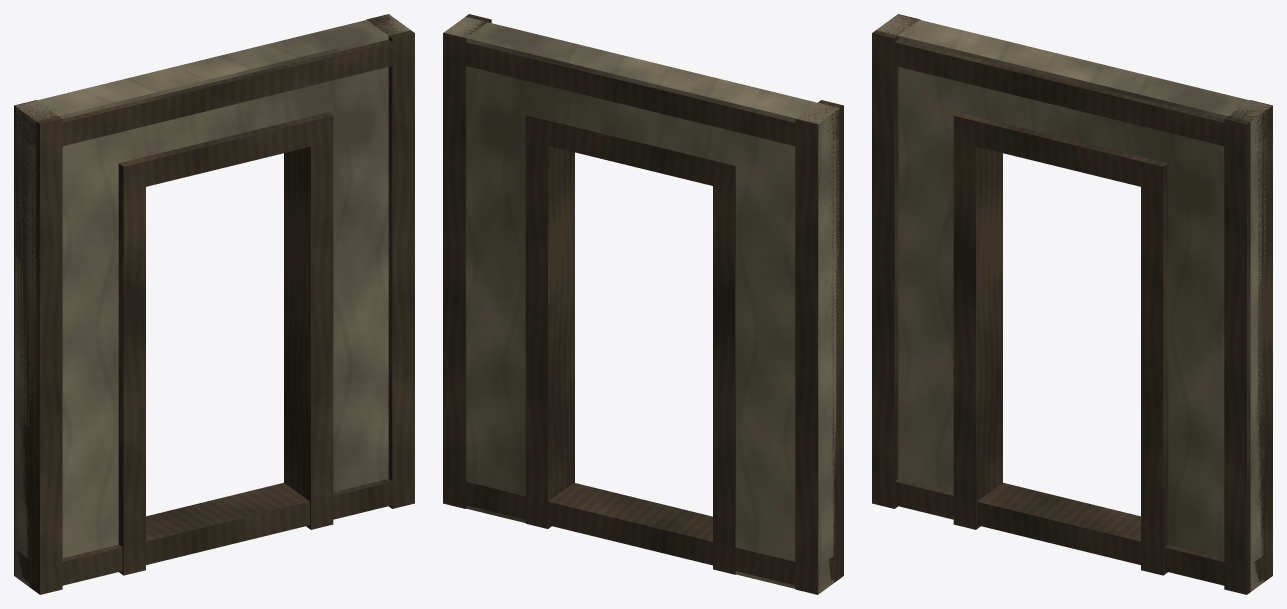
File: Wall_Doorway_2m.glb
The picture shows the model from 3 angles, left to right: view 1: azimuth 30°, elevation 25°; view 2: azimuth 150°, elevation 25°; view 3: azimuth 330°, elevation 25°; orthographic projection.
Visible parts, largest first — view 1: Wall_Doorway_2m; view 2: Wall_Doorway_2m; view 3: Wall_Doorway_2m.
Part boxes in pixels (box(x1,y1,x2,y2)): Wall_Doorway_2m: box(14, 14, 414, 594); Wall_Doorway_2m: box(443, 14, 843, 594); Wall_Doorway_2m: box(872, 14, 1272, 594).
Bounding box in the file's own units: 2 × 2.4 × 0.25.
2 materials, 2 textured.
